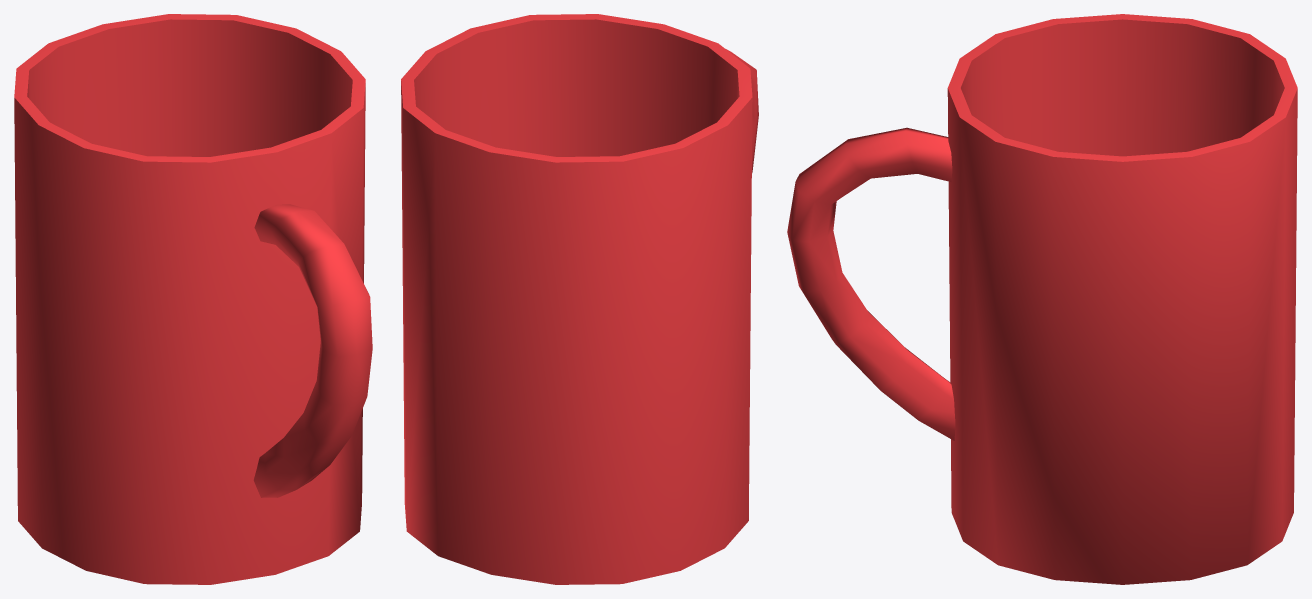
The model's file is SM_Coffe_mug.fbx.
3 renders of one model, left to right at view 1: azimuth 30°, elevation 25°; view 2: azimuth 150°, elevation 25°; view 3: azimuth 270°, elevation 25°, orthographic.
Visible parts, largest first — view 1: SM_Coffe_mug; view 2: SM_Coffe_mug; view 3: SM_Coffe_mug.
Part boxes in pixels (left/top/right/bottom): SM_Coffe_mug: left=14, top=14, right=372, bottom=584; SM_Coffe_mug: left=401, top=14, right=758, bottom=584; SM_Coffe_mug: left=787, top=14, right=1297, bottom=584.
Size of the model in its own units: 13.07 by 19.06 by 17.5.
1 material, 1 textured.
